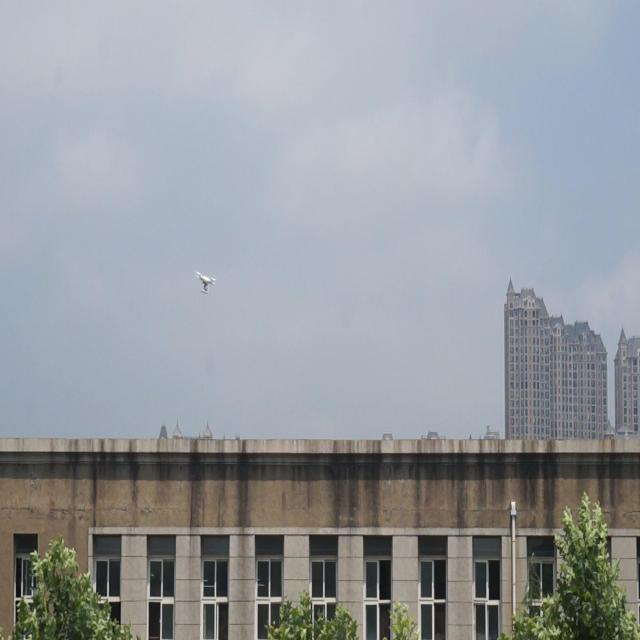UAV: (195, 271, 217, 294)
